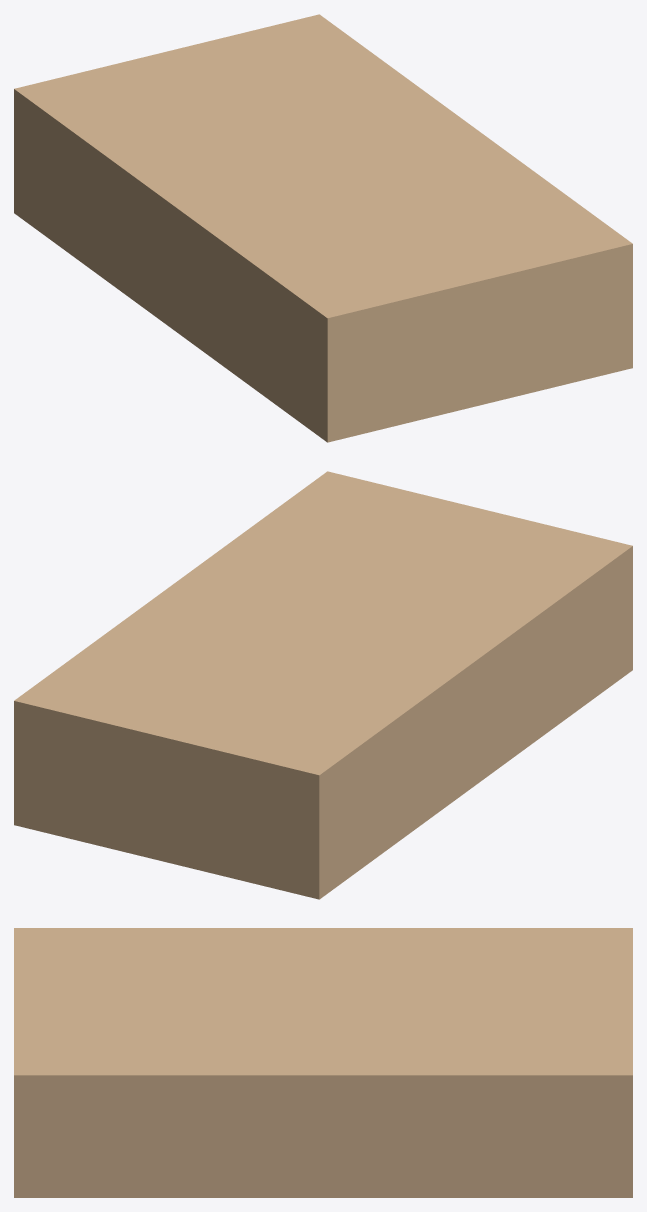
The model's file is bookshelf.glb.
3 renders of one model, top to bottom at view 1: azimuth 30°, elevation 25°; view 2: azimuth 150°, elevation 25°; view 3: azimuth 270°, elevation 25°, orthographic.
Parts seen in each view (by area): view 1: frame; view 2: frame; view 3: frame.
Boxes of the visible parts, x1,y1,x2,y2 form: frame: (14,14,632,442); frame: (14,471,632,899); frame: (14,928,632,1197).
Bounding box in the file's own units: 0.9 × 0.35 × 1.6.
